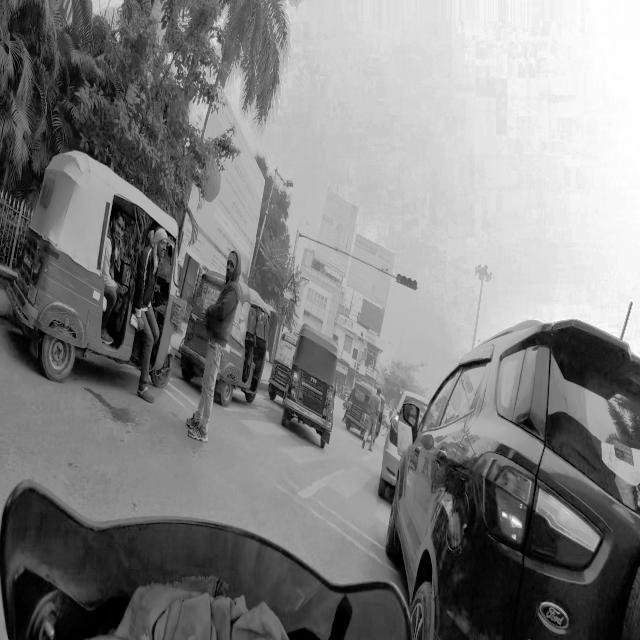Auto-Rickshaw: (23, 138, 179, 415), (189, 261, 271, 419), (286, 314, 341, 450), (346, 376, 386, 458)
Car: (392, 333, 639, 640), (386, 377, 426, 500)
